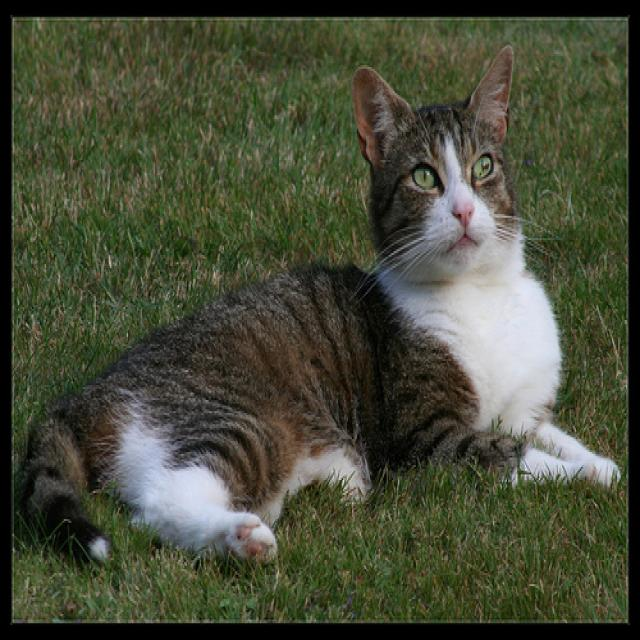cat: (16, 44, 622, 570)
